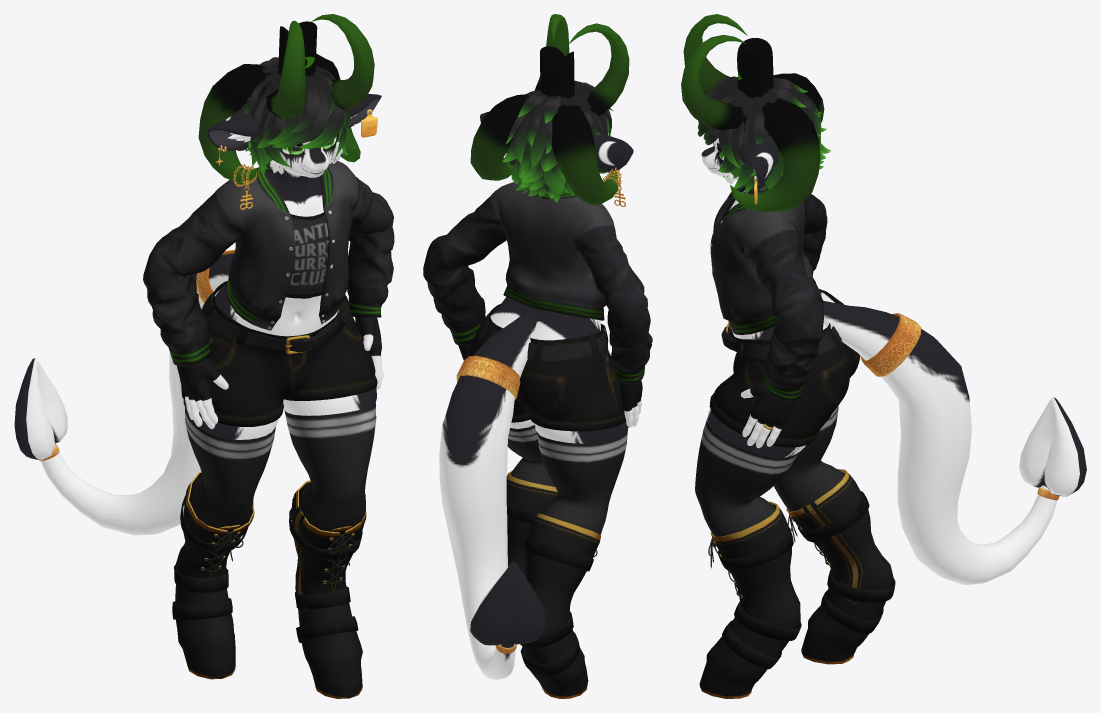
Rendered from N0ruleV2Optimized.glb.
The picture shows the model from 3 angles, left to right: view 1: azimuth 30°, elevation 25°; view 2: azimuth 150°, elevation 25°; view 3: azimuth 270°, elevation 25°; orthographic projection. The views are drawn at different scales.
Visible parts, largest first — view 1: Body; view 2: Body; view 3: Body.
Part boxes in pixels (x1=…): Body: x1=14, y1=14, x2=394, y2=698; Body: x1=423, y1=14, x2=652, y2=698; Body: x1=681, y1=14, x2=1086, y2=698.
Size of the model in its own units: 0.6173 by 1.59 by 0.8946.
4 materials, 4 textured.
